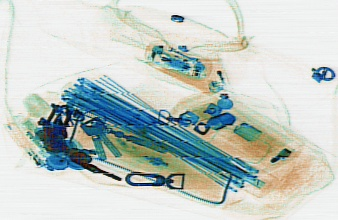lighter: (3, 122, 46, 169), (201, 53, 229, 93)
